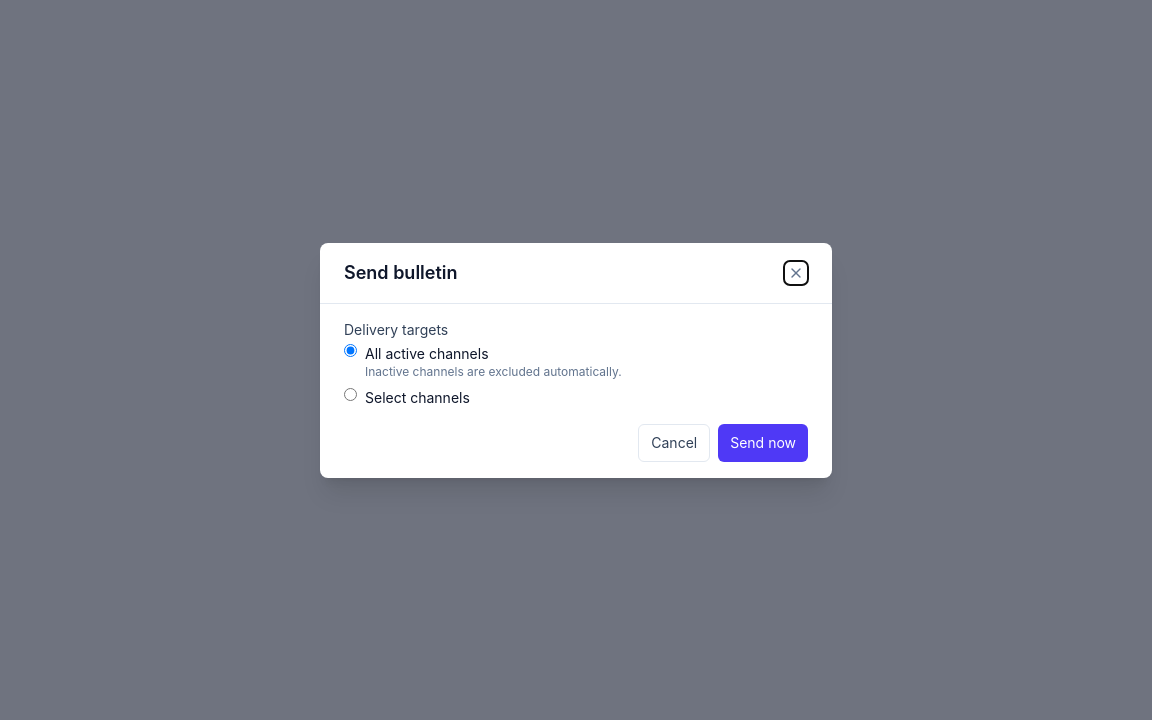
FE-SND-01: send dialog › raises the hard block and shows the 409 message when PENDING_SUGGESTIONS comes back
Click the button "Send now" at (763, 442), box [718,424,808,462]
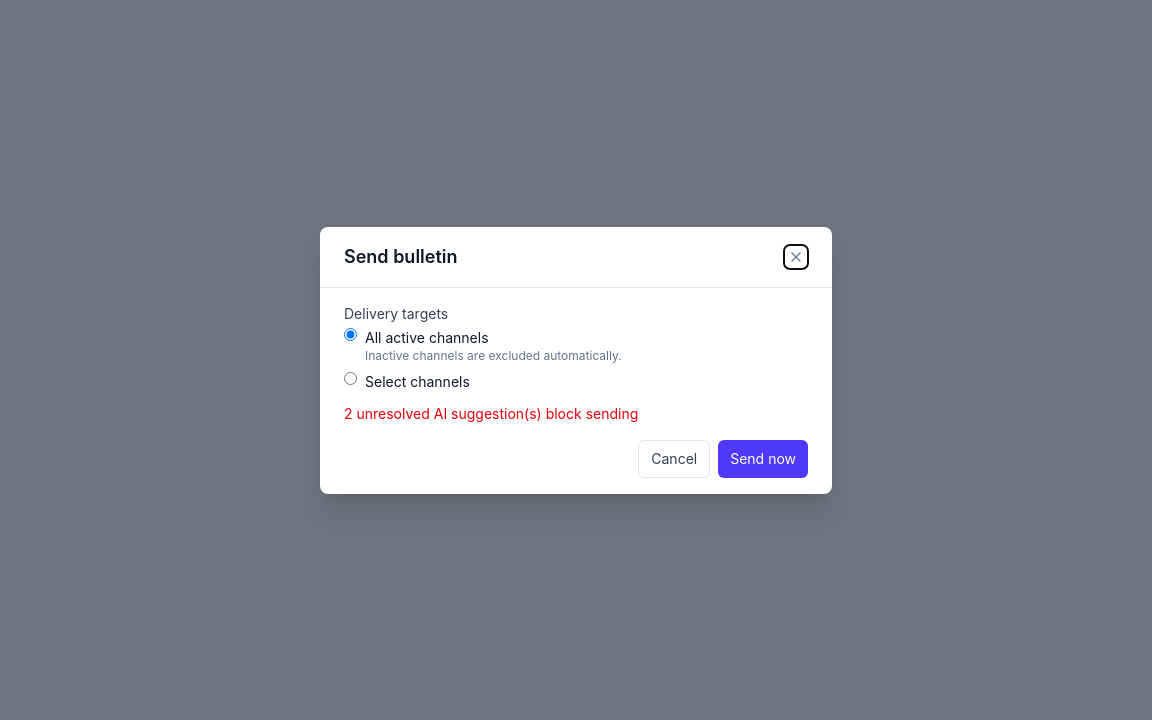
Result: the message shows "unresolved AI suggestion" at [344,404,638,422]
